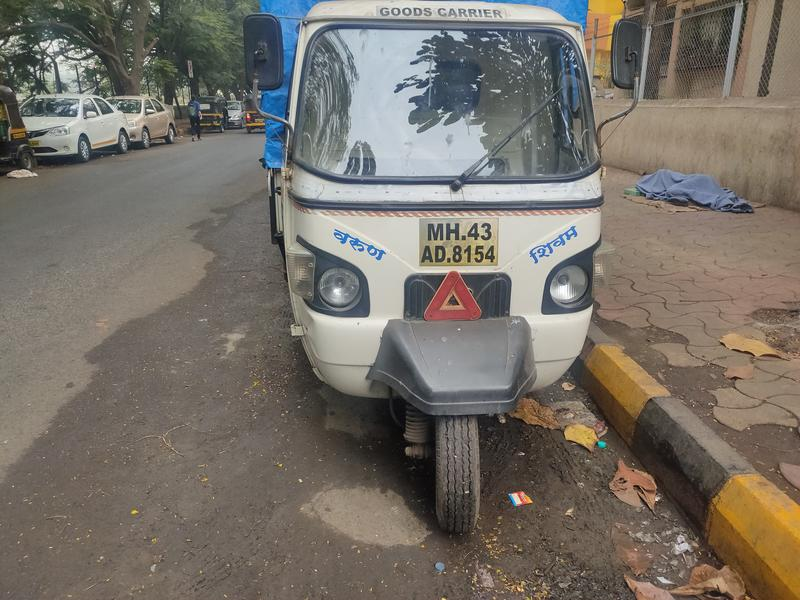license_plate: (409, 210, 510, 274)
